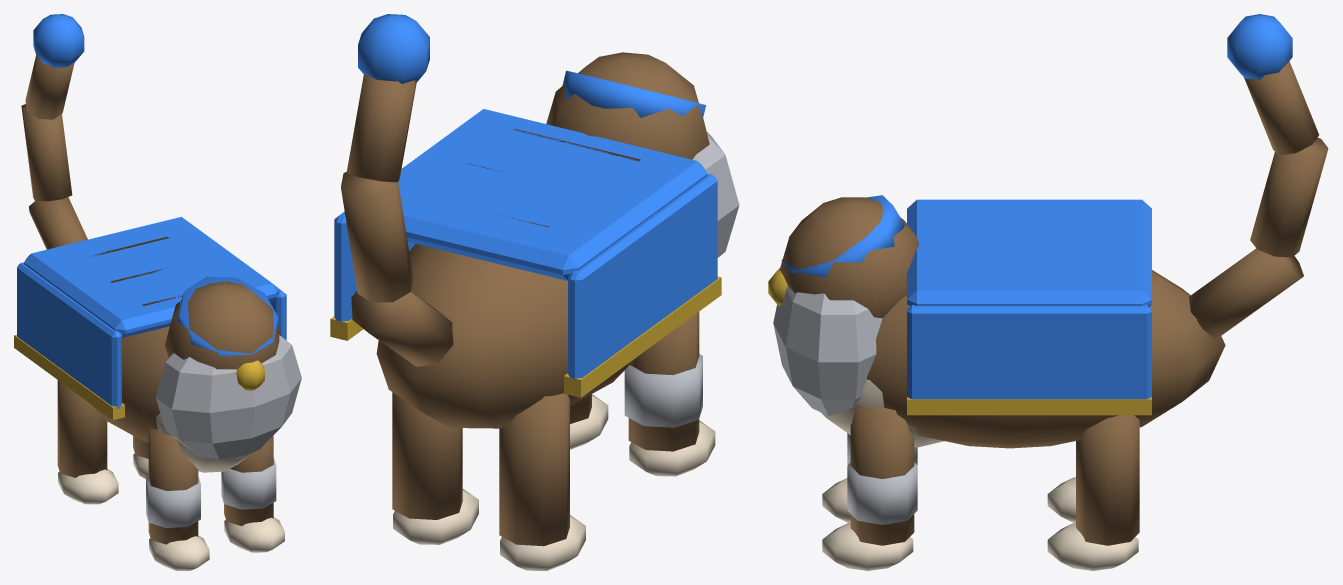
The model's file is tigrou.glb.
The picture shows the model from 3 angles, left to right: view 1: azimuth 30°, elevation 25°; view 2: azimuth 150°, elevation 25°; view 3: azimuth 270°, elevation 25°; orthographic projection. The views are drawn at different scales.
Parts seen in each view (by area): view 1: caparison, breastplate, flap_L, tail, neck, body, limb_BL, limb_FL, tail_tip, greave_FL, greave_FR, paw_BL (+8 smaller); view 2: caparison, body, tail, flap_L, limb_BL, neck, limb_BR, greave_FL, limb_FL, tail_tip, trim_L, collar (+7 smaller); view 3: caparison, flap_R, body, tail, neck, breastplate, limb_BR, limb_FR, trim_R, greave_FR, tail_tip, paw_BR (+5 smaller).
Boxes of the visible parts, x1,y1,x2,y2 form: caparison: (24, 217, 279, 337); breastplate: (155, 335, 301, 459); flap_L: (17, 262, 121, 409); tail: (21, 55, 87, 249); neck: (165, 281, 280, 369); body: (88, 326, 169, 442); limb_BL: (57, 380, 107, 477); limb_FL: (148, 427, 198, 544); tail_tip: (33, 14, 84, 67); greave_FL: (146, 476, 200, 527); greave_FR: (221, 458, 276, 509); paw_BL: (58, 469, 118, 504); caparison: (344, 109, 707, 280); body: (376, 244, 638, 428); tail: (341, 73, 453, 366); flap_L: (568, 173, 717, 378); limb_BL: (499, 393, 569, 546); neck: (546, 52, 709, 159); limb_BR: (392, 392, 462, 519); greave_FL: (624, 354, 702, 427); limb_FL: (628, 312, 699, 451); tail_tip: (358, 14, 429, 83); trim_L: (564, 276, 721, 397); collar: (562, 70, 706, 118); caparison: (907, 199, 1151, 306); flap_R: (907, 305, 1151, 399); body: (867, 270, 1225, 448); tail: (1189, 61, 1328, 339); neck: (779, 197, 919, 318); breastplate: (773, 286, 882, 415); limb_BR: (1076, 415, 1139, 545); limb_FR: (850, 404, 914, 545); trim_R: (907, 397, 1151, 415); greave_FR: (847, 462, 917, 524); tail_tip: (1227, 14, 1292, 79); paw_BR: (1047, 522, 1138, 570).
Size of the model in its own units: 0.515 by 1.19 by 1.14.
